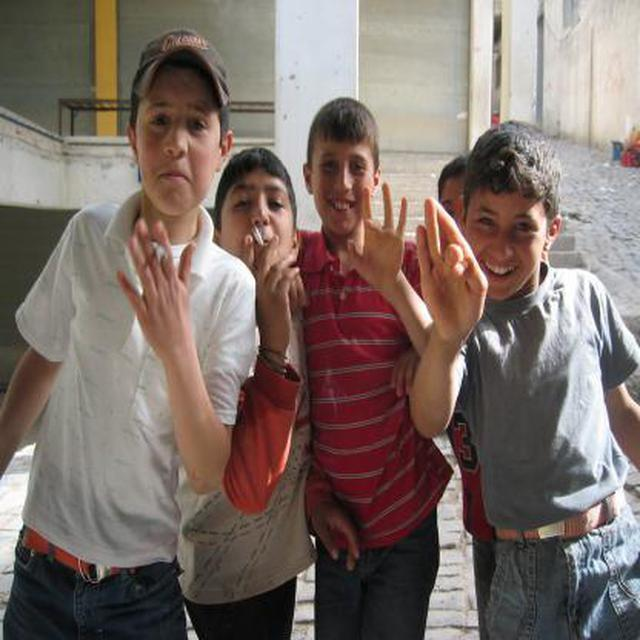smoking: (252, 226, 265, 248), (154, 244, 168, 262)
